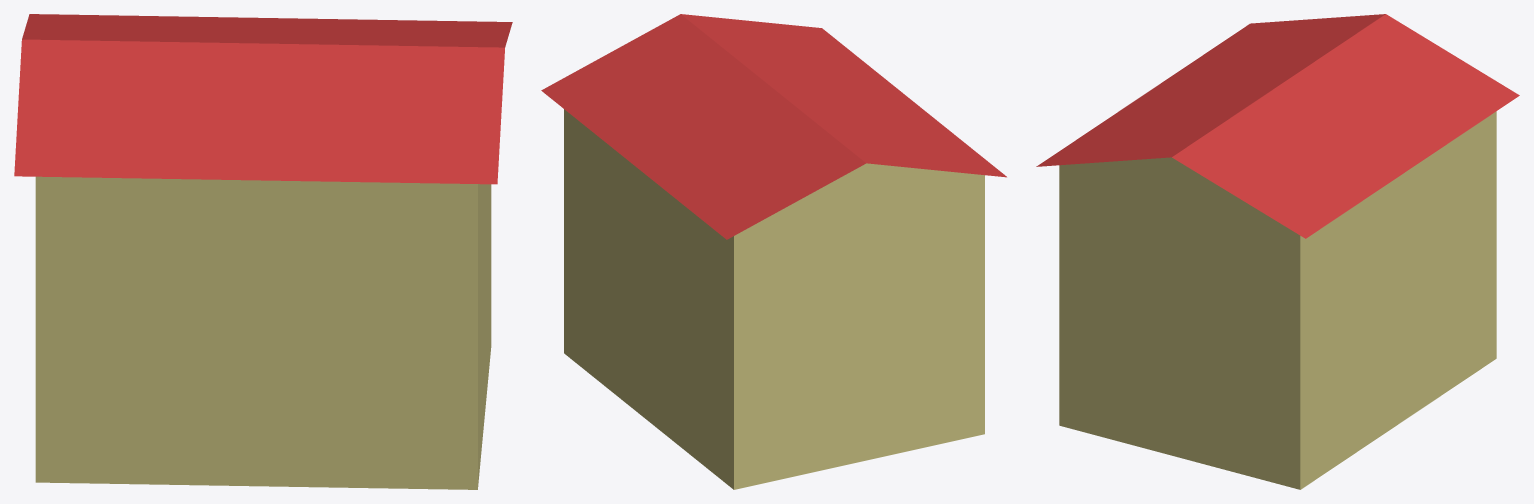
The picture shows the model from 3 angles, left to right: view 1: azimuth 30°, elevation 25°; view 2: azimuth 150°, elevation 25°; view 3: azimuth 270°, elevation 25°; orthographic projection. The views are drawn at different scales.
Size of the model in its own units: 15.01 by 14.25 by 9.97.
